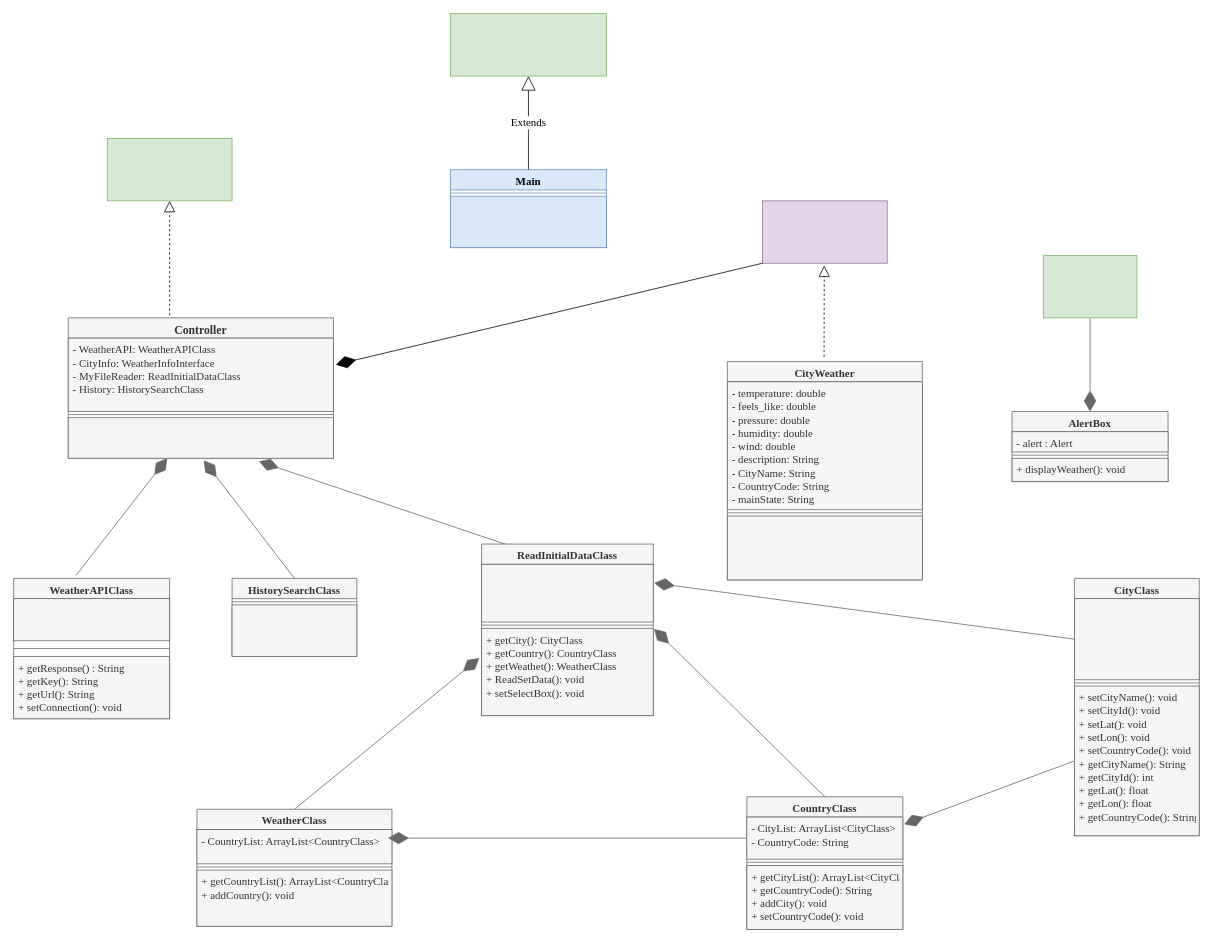
The diagram is 1213 pixels wide and 945 high, and some of its shapes have lost their labels. The shapes that lost their labels are listed below. From the top down, each one's centre as x and y in pixels, then its label:
point 528,44: Application
point 169,169: Initializable
point 528,221: + start(): void + main: void
point 824,231: WeatherInfoInterface
point 1089,286: Alert
point 200,437: + initialize(): void + onPressWeatherButton(): void
point 824,547: + get(): Obj + serParameters(): void + display(): String
point 567,593: - Country: CountryClass - City: CityClass - Weather: WeatherClass
point 91,619: - key: String - response: String - Url: String
point 294,630: + createFile() : void + writeSearchResult(): void
point 1136,639: - CityName: String - CityId: int - lat: float - lon: float - CountryCode: String
